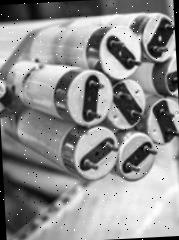lightbulb: (0, 9, 179, 187), (4, 54, 114, 131)
